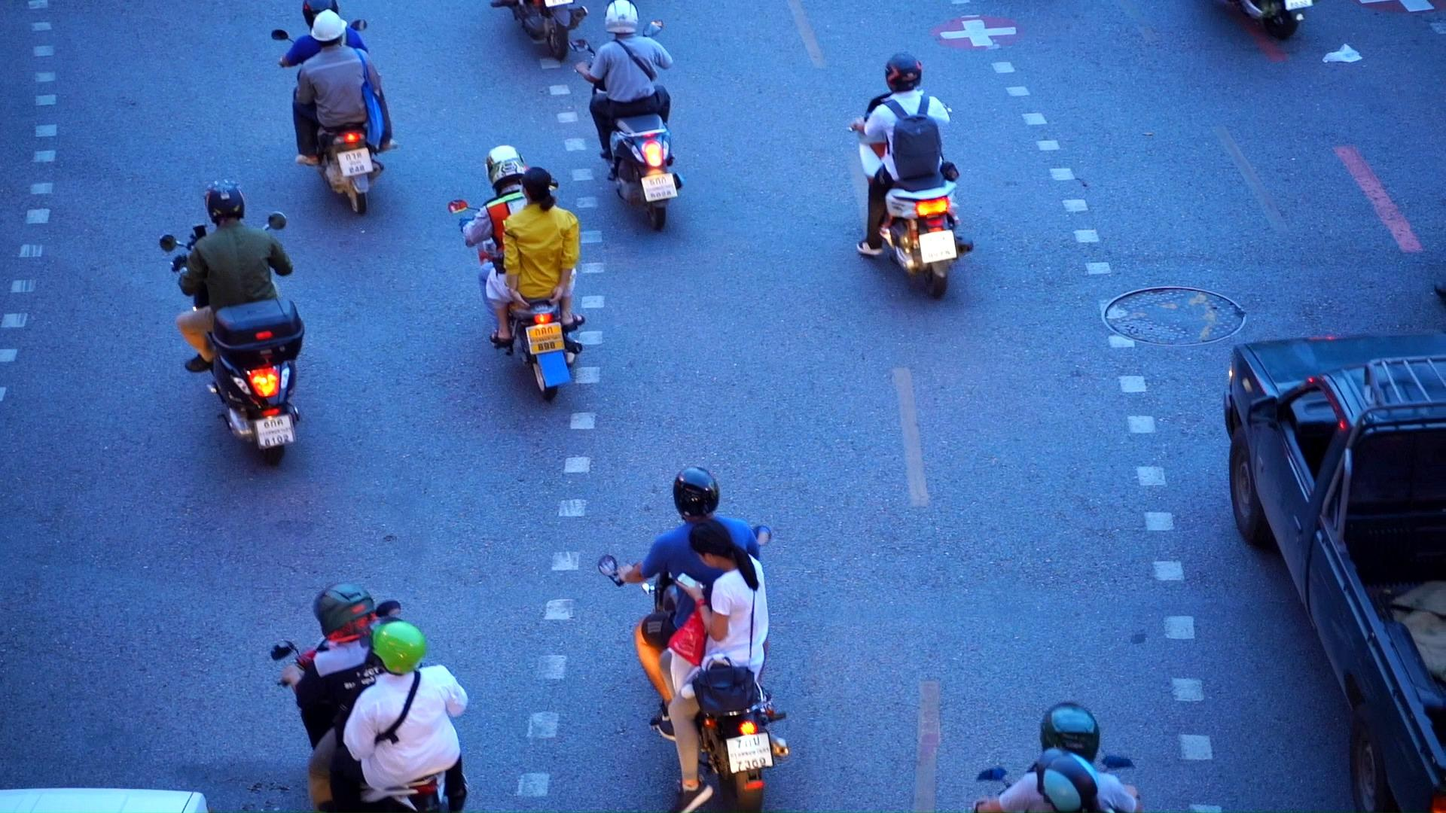driver: (597, 466, 789, 813), (271, 581, 469, 813), (161, 179, 308, 467), (447, 144, 586, 399), (844, 53, 974, 298), (269, 0, 400, 216), (568, 0, 686, 233), (966, 701, 1142, 813)
helmet: (1036, 747, 1099, 813), (359, 616, 426, 676), (313, 581, 375, 643), (1040, 702, 1099, 765), (673, 466, 720, 521), (485, 144, 527, 191), (203, 179, 245, 224), (885, 53, 922, 93), (311, 9, 347, 48), (605, 0, 639, 34), (302, 0, 338, 27)
no-helmet: (689, 518, 757, 568), (519, 166, 557, 212)
